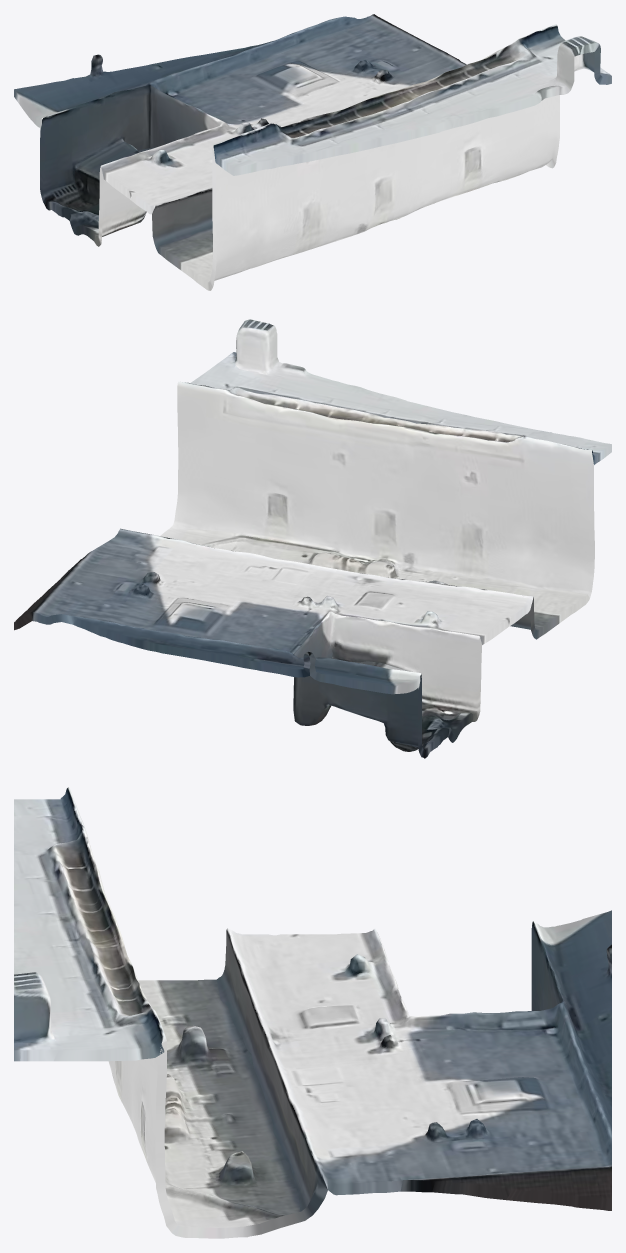
The model's file is z20-167754-405243-h0-yup-uvflip-v3-world.glb.
3 renders of one model, top to bottom at view 1: azimuth 30°, elevation 25°; view 2: azimuth 150°, elevation 25°; view 3: azimuth 270°, elevation 25°, orthographic. The views are drawn at different scales.
Bounding box in the file's own units: 30.16 × 16.76 × 30.32.
1 material, 1 textured.
